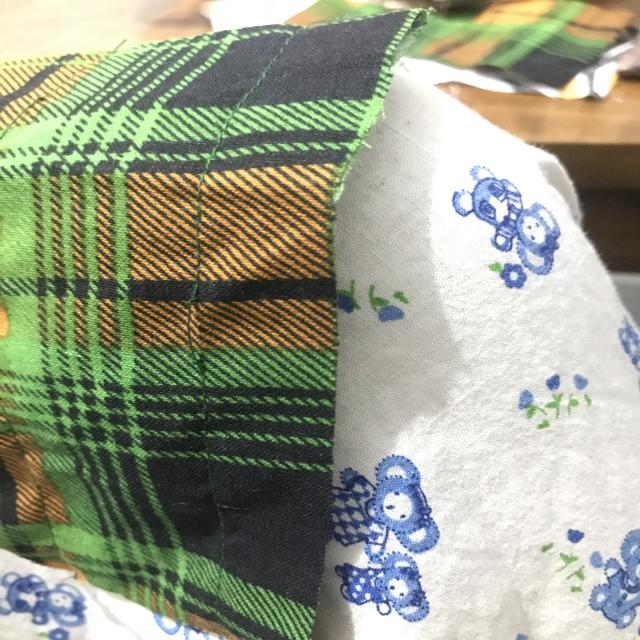skip: (168, 278, 222, 383)
